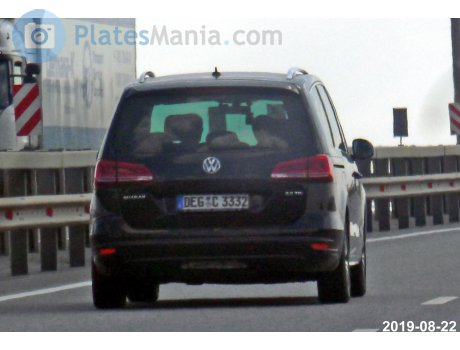License Plates: (176, 194, 246, 207)
